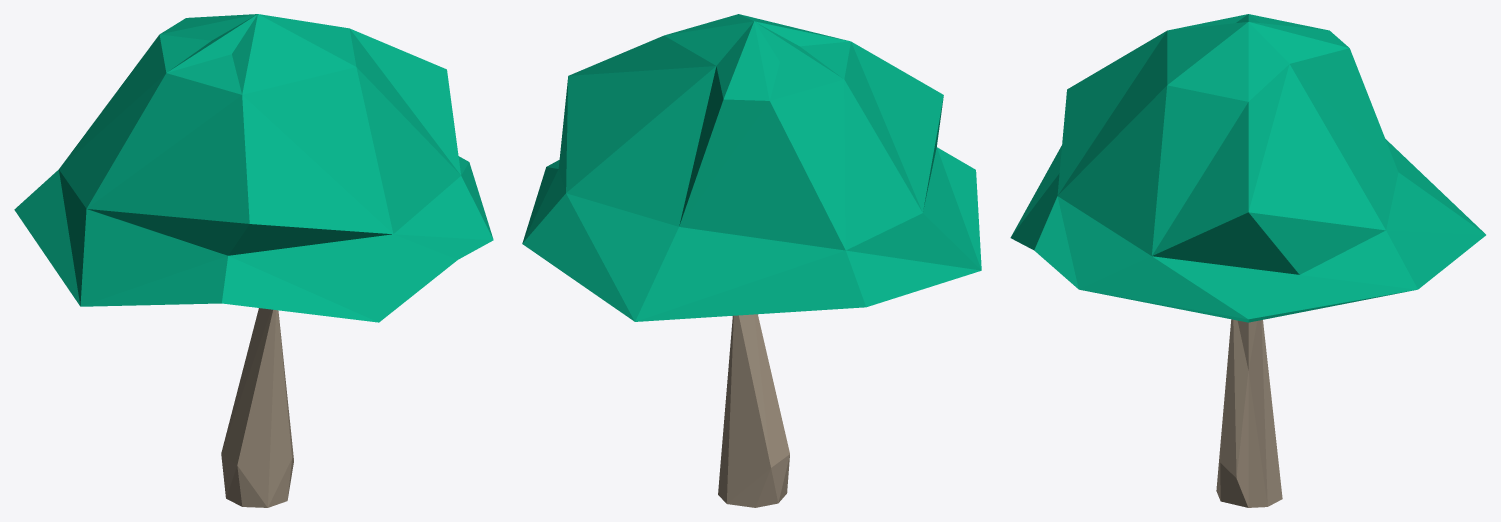
Rendered from tree04.fbx.
3 renders of one model, left to right at view 1: azimuth 30°, elevation 25°; view 2: azimuth 150°, elevation 25°; view 3: azimuth 270°, elevation 25°, orthographic.
Visible parts, largest first — view 1: revolvedSurface1; view 2: revolvedSurface1; view 3: revolvedSurface1.
Part boxes in pixels (left/top/right/bottom): revolvedSurface1: left=14, top=14, right=493, bottom=507; revolvedSurface1: left=522, top=14, right=981, bottom=507; revolvedSurface1: left=1010, top=14, right=1485, bottom=507.
Size of the model in its own units: 0.1243 by 0.1372 by 0.1254.
